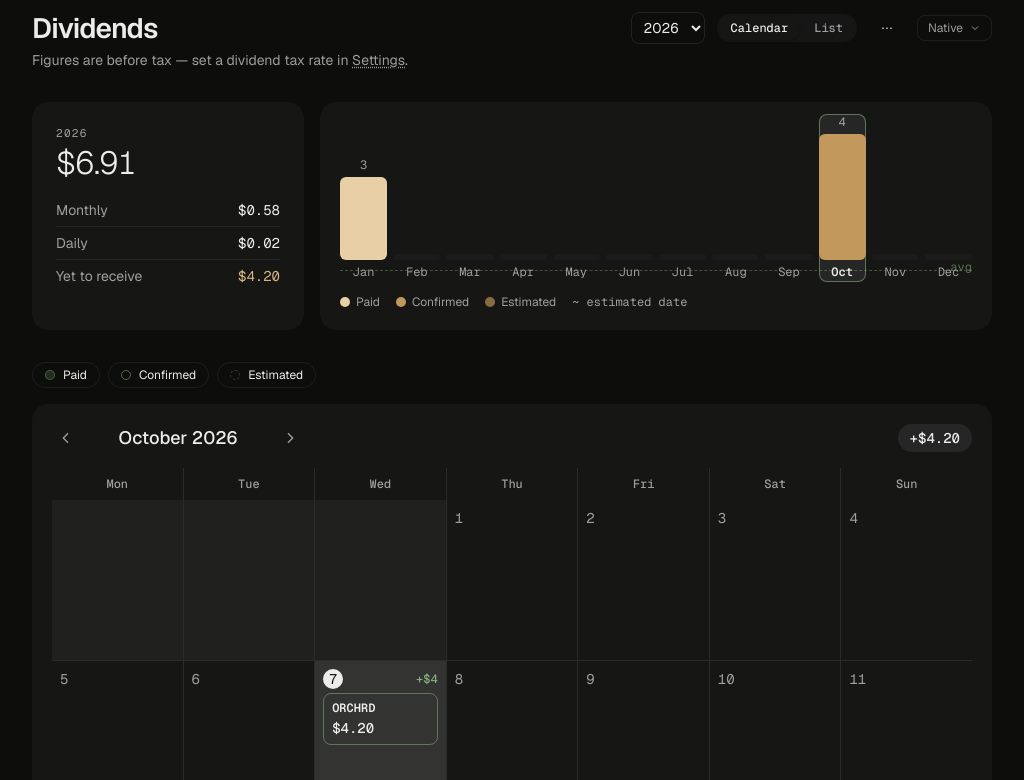
Test: DividendsPage › changes the year for the whole page, carrying the month with it
Select "2025" in the dropdown named "Year" at (668, 28), box top-left (631, 12), bottom-right (705, 44)
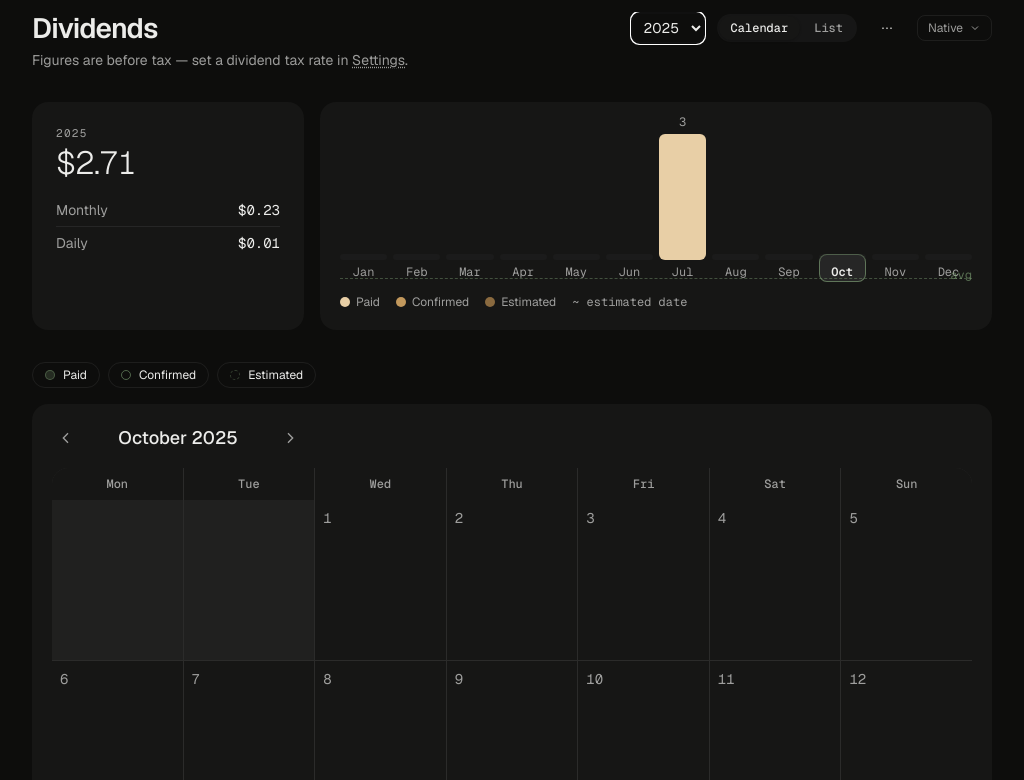
Expected: the text "October 2025" is shown, top-left (118, 426), bottom-right (238, 449)
